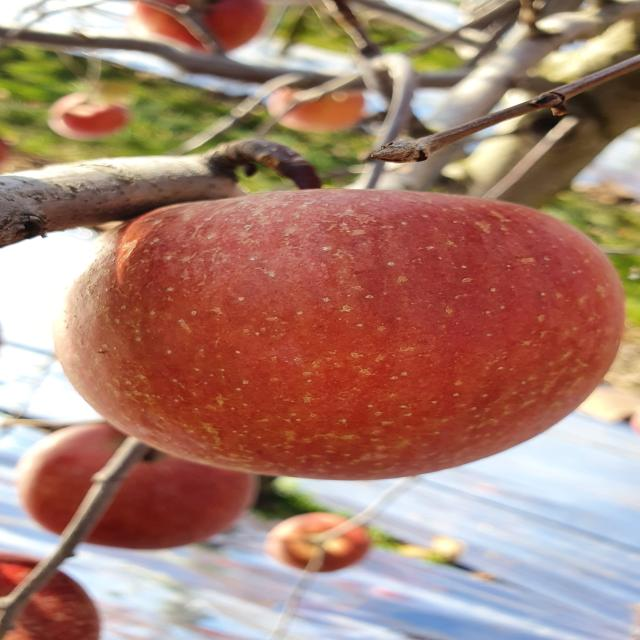fresh: (52, 174, 640, 487)
